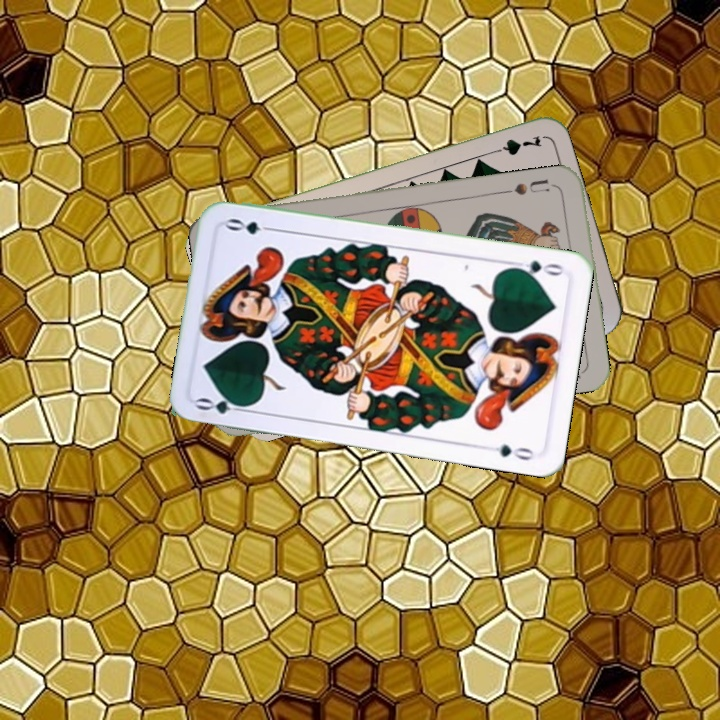G7: (485, 131, 544, 158)
GO: (193, 392, 253, 417), (507, 256, 566, 280)
SU: (510, 175, 560, 198)
